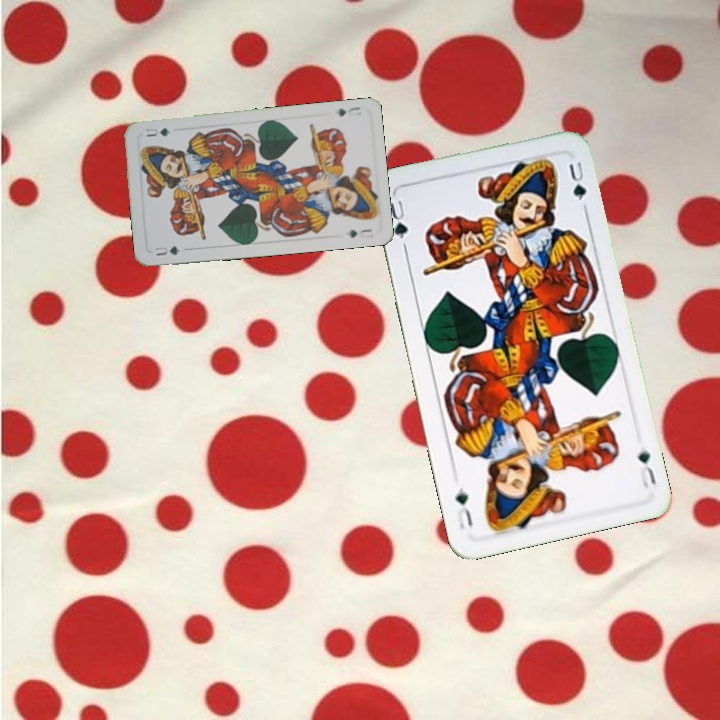GU: (385, 196, 411, 242), (634, 446, 659, 492), (151, 242, 183, 259), (334, 103, 364, 119)
